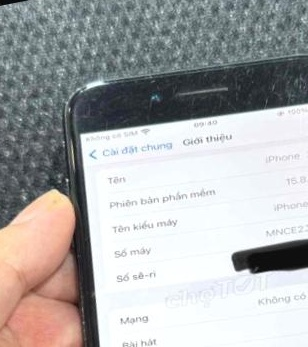scratch: (53, 37, 308, 166), (49, 266, 124, 347)
